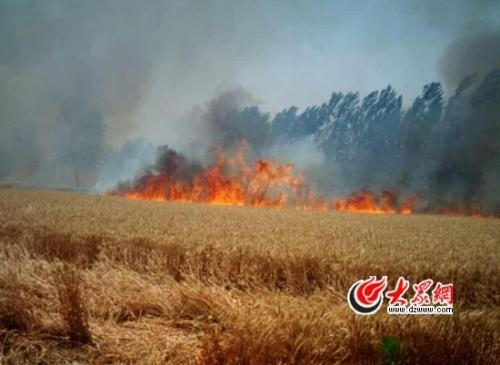fire: (135, 145, 432, 216), (123, 143, 310, 207)
